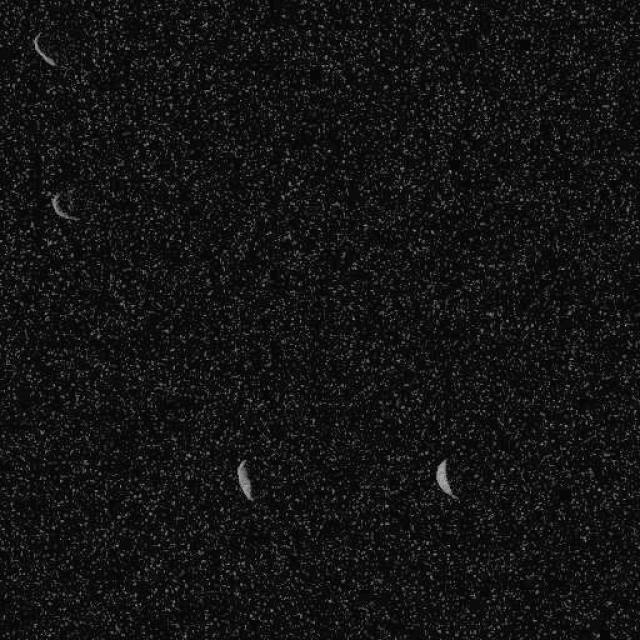D2: (434, 456, 460, 502), (49, 189, 80, 221), (32, 30, 58, 68), (235, 458, 255, 502)
